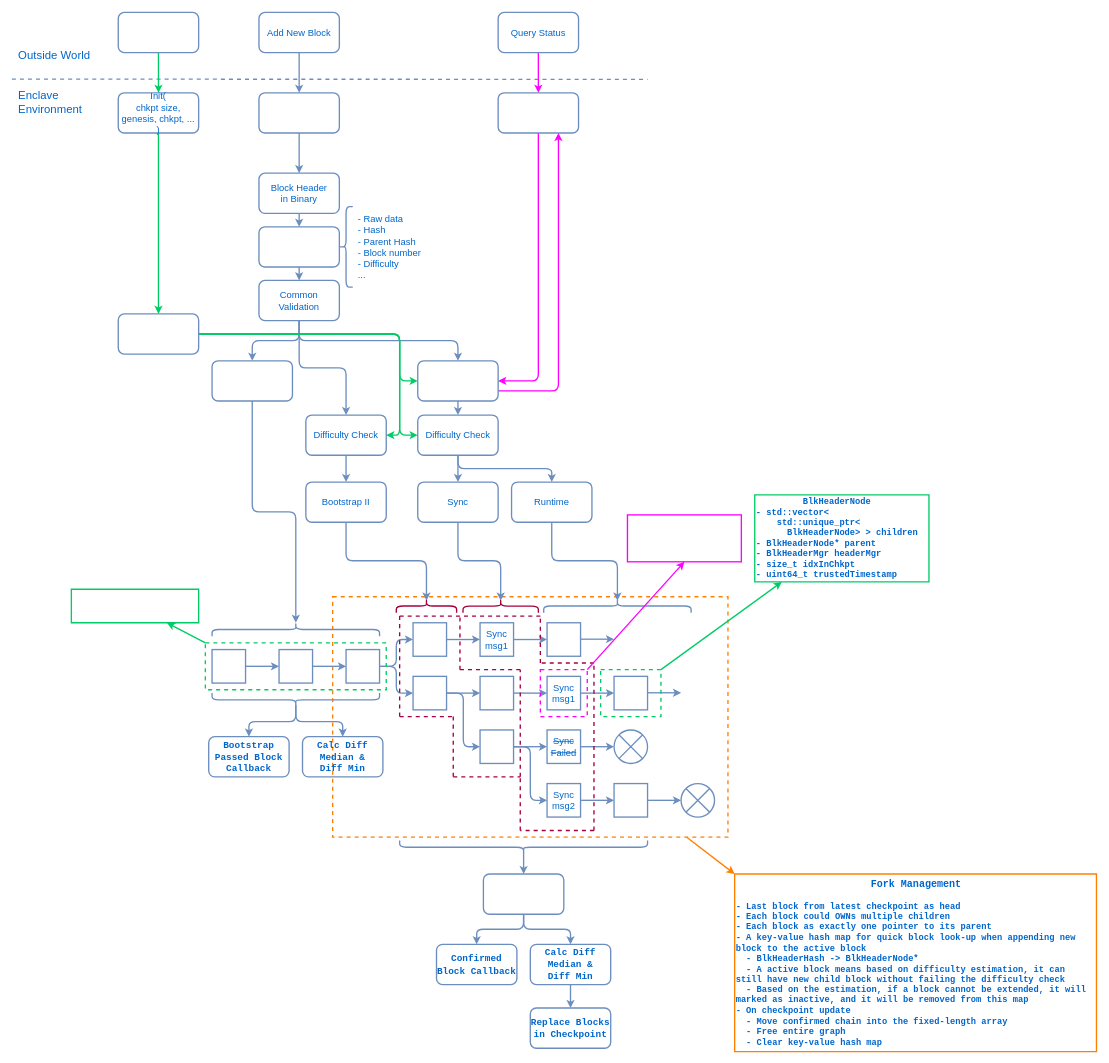
Some shapes in this 1109 by 1063 pixel diagram are drawn without their labels. Each missing label, with the box of its shape:
- Fixed length array - Checkpoint iteration count: (70, 588, 199, 623)
- Sync contract address - Session Unique ID - Nonce: (626, 514, 742, 562)
Block Header Manager: (258, 226, 340, 267)
Bootstrap I: (211, 360, 293, 401)
Configuration Manager: (117, 313, 199, 354)
Diff Failed: (613, 783, 648, 817)
GetStatus(): (497, 92, 579, 133)
Initialization: (117, 11, 199, 53)
Update Checkpoint: (482, 873, 564, 915)
Update Fork Management: (417, 360, 498, 401)
Update( BlkData [optional] ): (258, 92, 340, 133)
